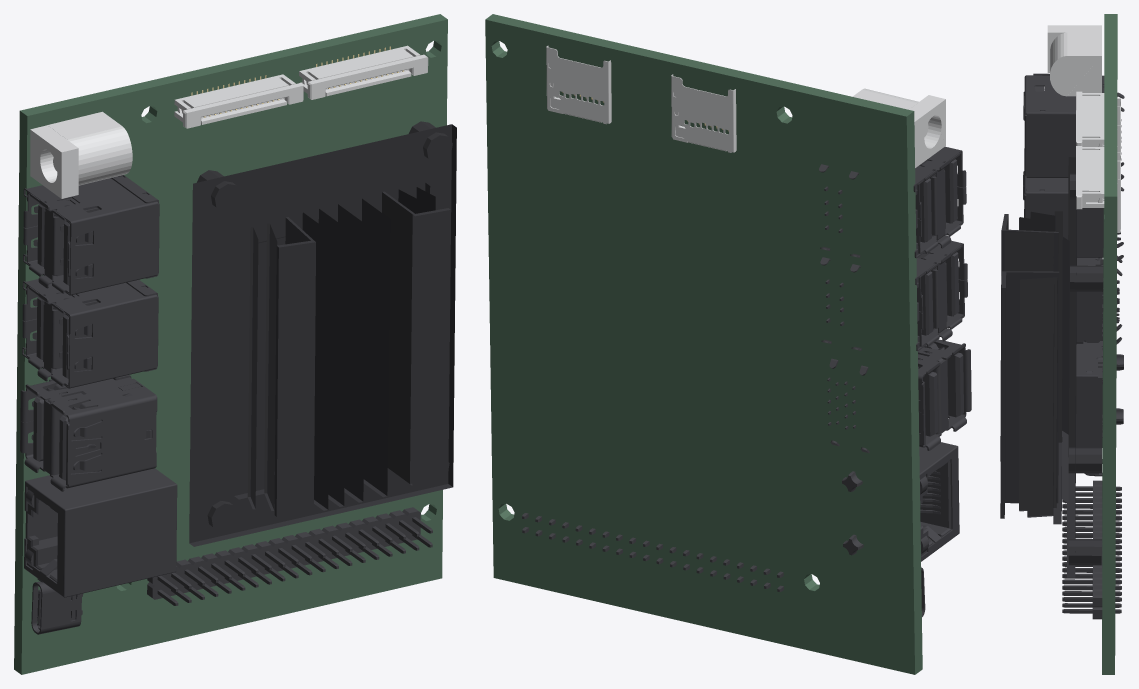
The model's file is jetson_nano.glb.
The picture shows the model from 3 angles, left to right: view 1: azimuth 30°, elevation 25°; view 2: azimuth 150°, elevation 25°; view 3: azimuth 270°, elevation 25°; orthographic projection. The views are drawn at different scales.
Visible parts, largest first — view 1: power_supply.002_804cc9; view 2: power_supply.002_804cc9; view 3: power_supply.002_804cc9.
Part boxes in pixels (box(x1,y1,x2,y2)): power_supply.002_804cc9: box(14, 14, 456, 674); power_supply.002_804cc9: box(485, 14, 971, 674); power_supply.002_804cc9: box(1000, 14, 1124, 674).
Size of the model in its own units: 0.0869 by 0.1085 by 0.0251.
